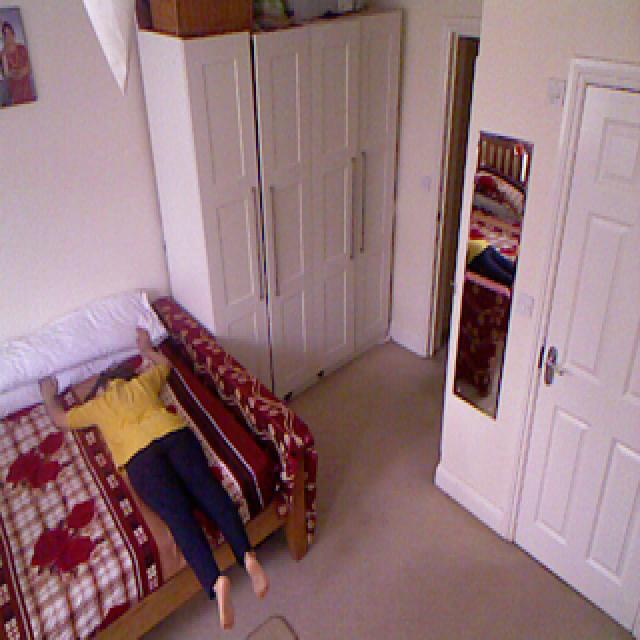lying: (42, 327, 270, 630)
